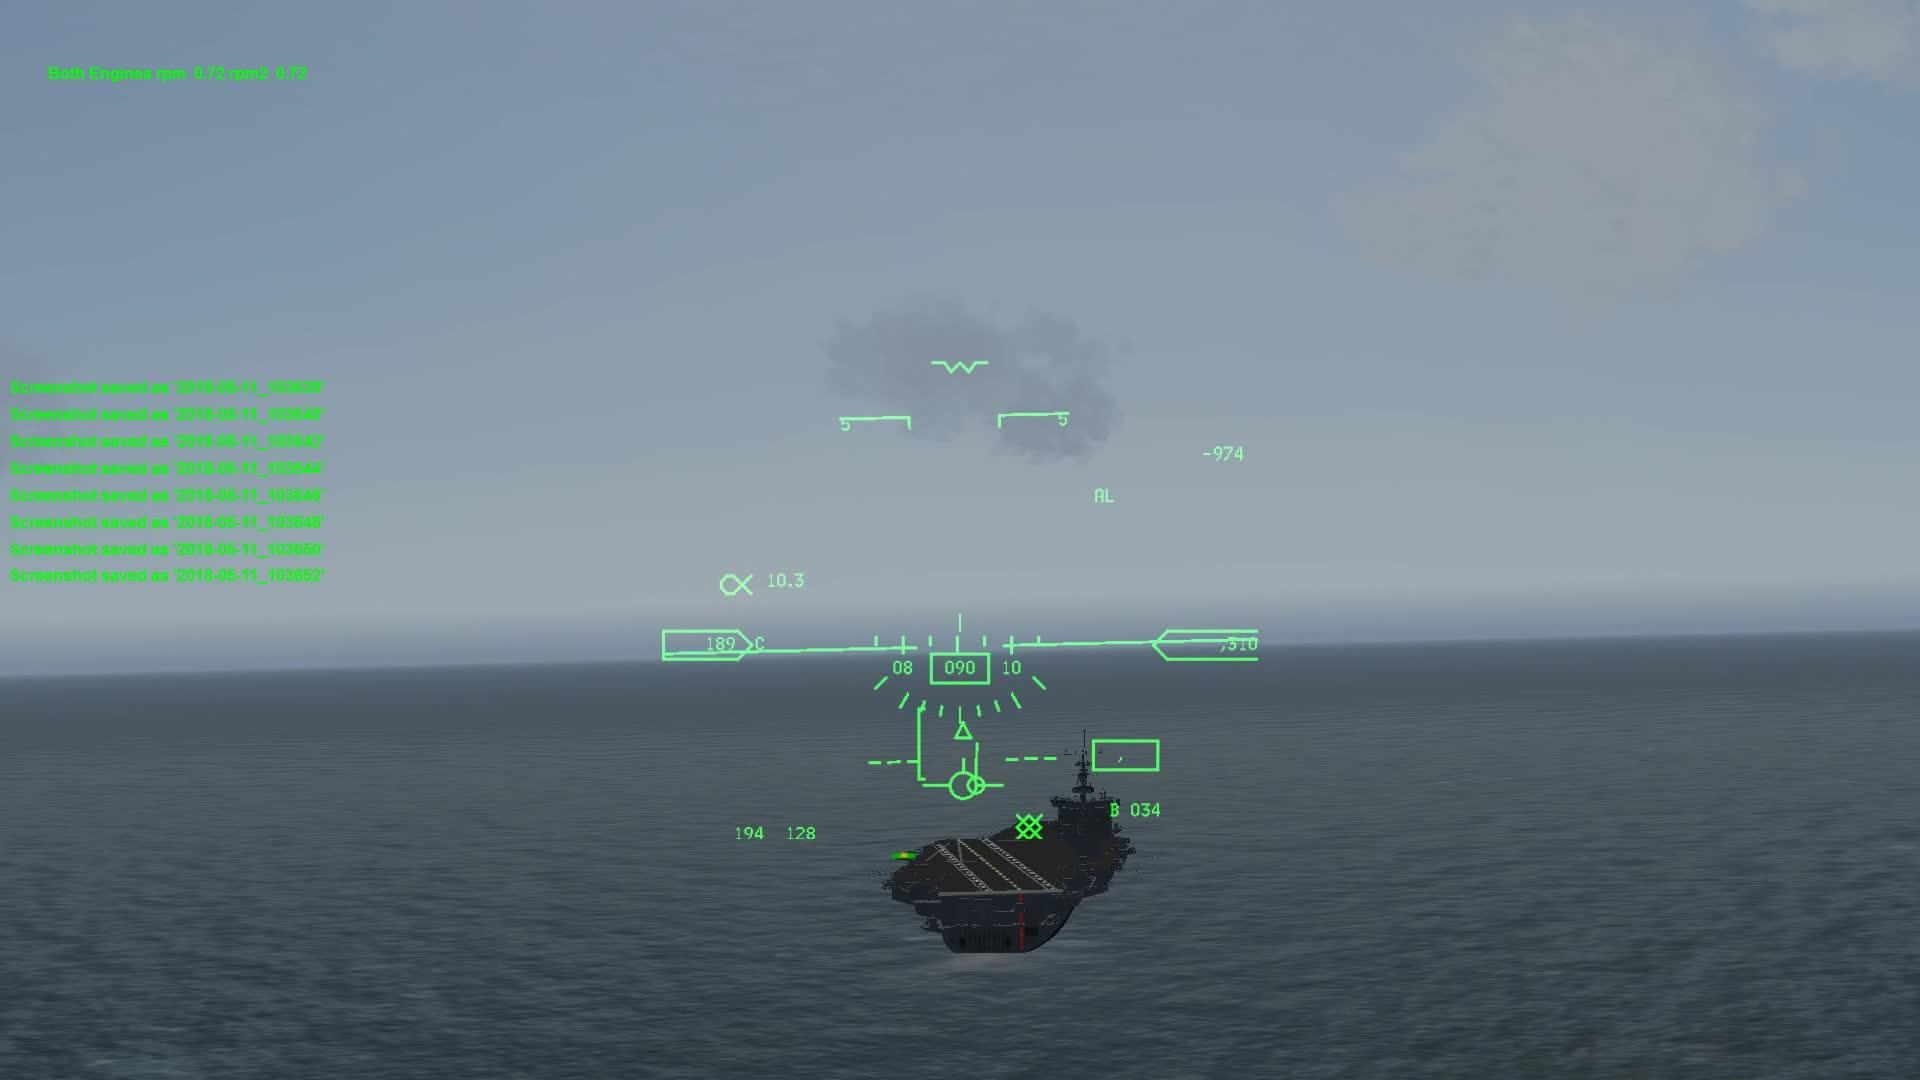speed vector: (923, 752, 1011, 808)
